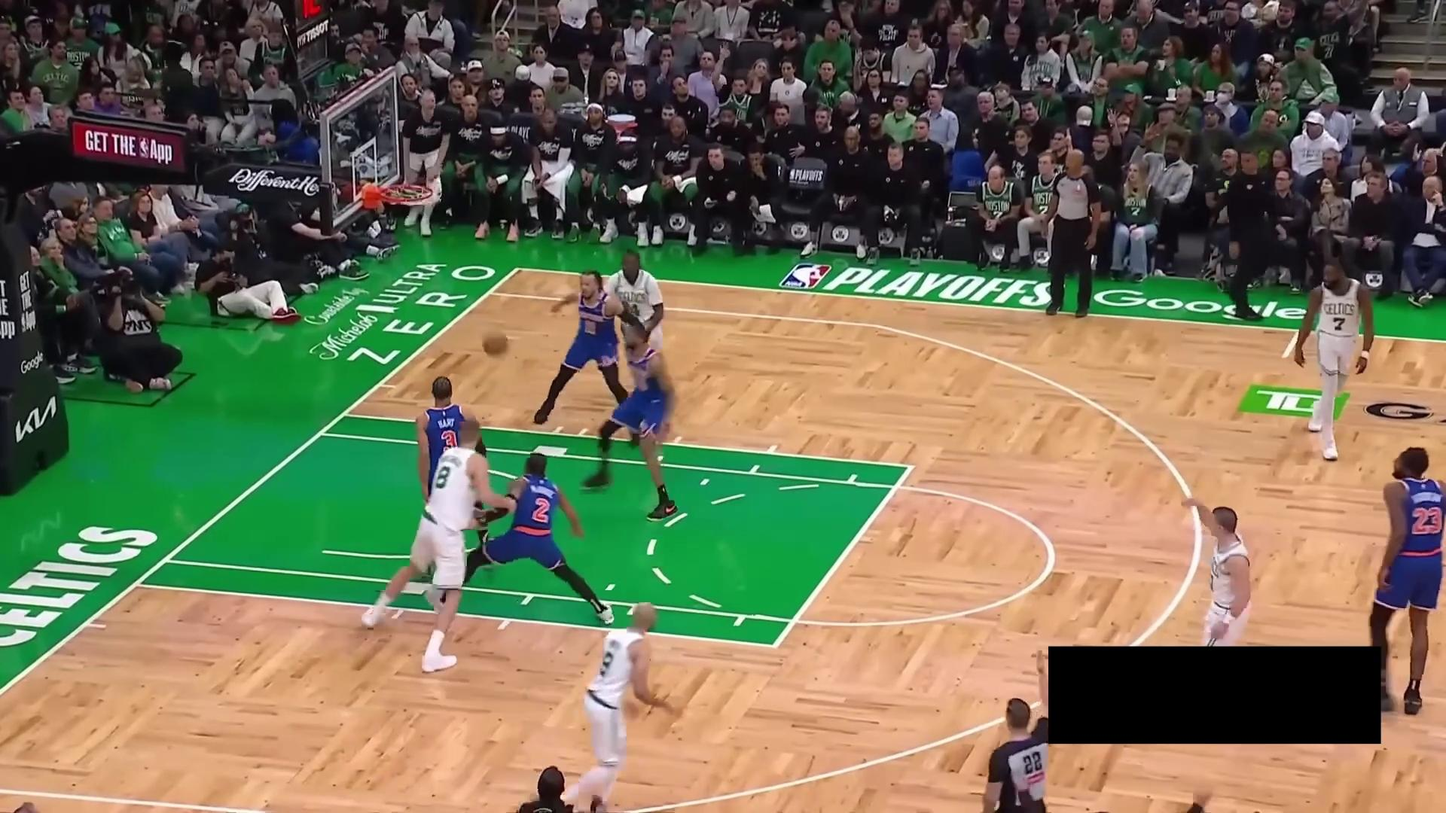ball: (483, 331, 508, 356)
number: (1407, 504, 1445, 539), (437, 427, 461, 454), (595, 649, 615, 680), (532, 497, 553, 524), (434, 465, 451, 490), (583, 319, 598, 335), (1333, 314, 1346, 330), (628, 302, 641, 318)
player: (361, 416, 517, 673), (433, 451, 614, 625), (559, 599, 685, 813), (1369, 447, 1446, 715), (534, 269, 648, 447), (579, 322, 678, 523), (1294, 258, 1374, 461), (415, 377, 495, 570), (1178, 494, 1258, 645), (603, 250, 664, 353)
referee: (977, 645, 1053, 813), (1038, 142, 1105, 317)
rim: (379, 180, 436, 207)
